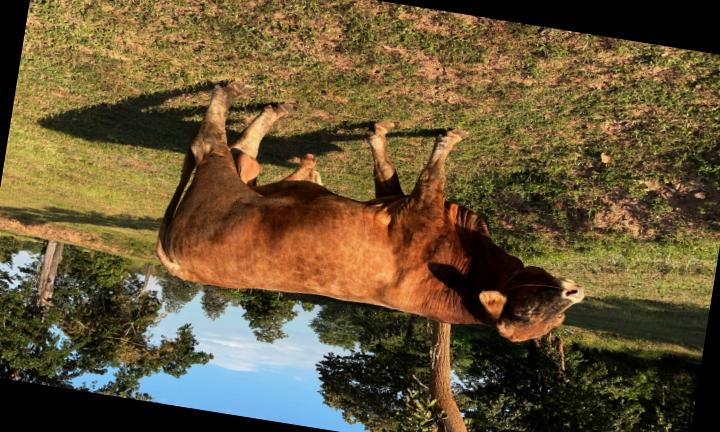Charolais: (156, 82, 583, 341)
